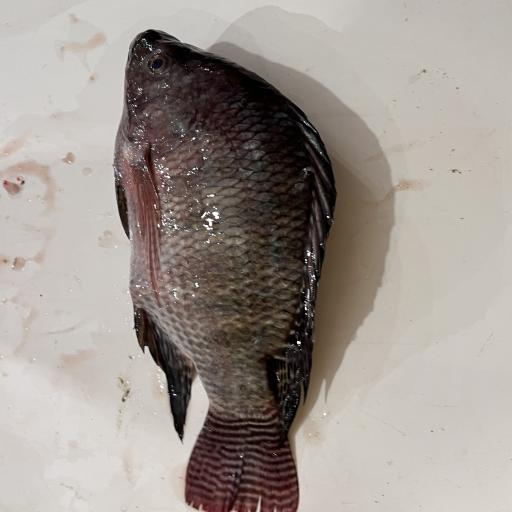Tilapia: (113, 29, 336, 512)
